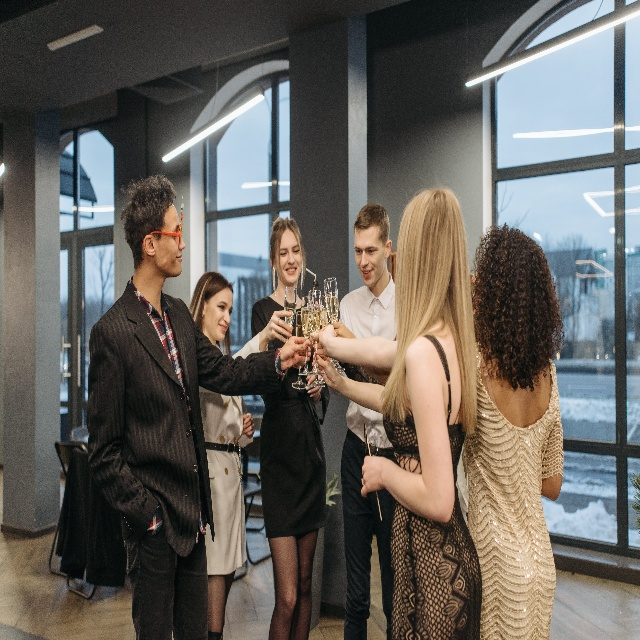Sin_guantes: (360, 456, 387, 496), (312, 352, 338, 390), (310, 322, 339, 356), (281, 336, 311, 368), (265, 309, 293, 340), (332, 321, 354, 340), (306, 373, 322, 398), (243, 412, 253, 436)
